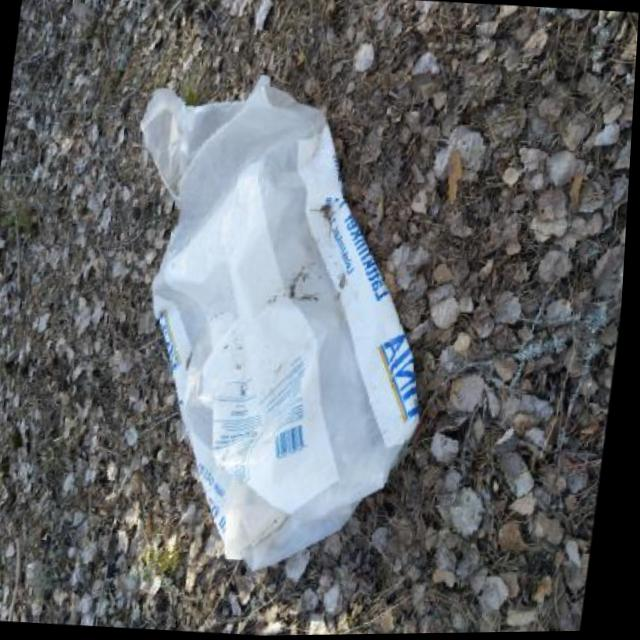plastic: (83, 62, 465, 584)
